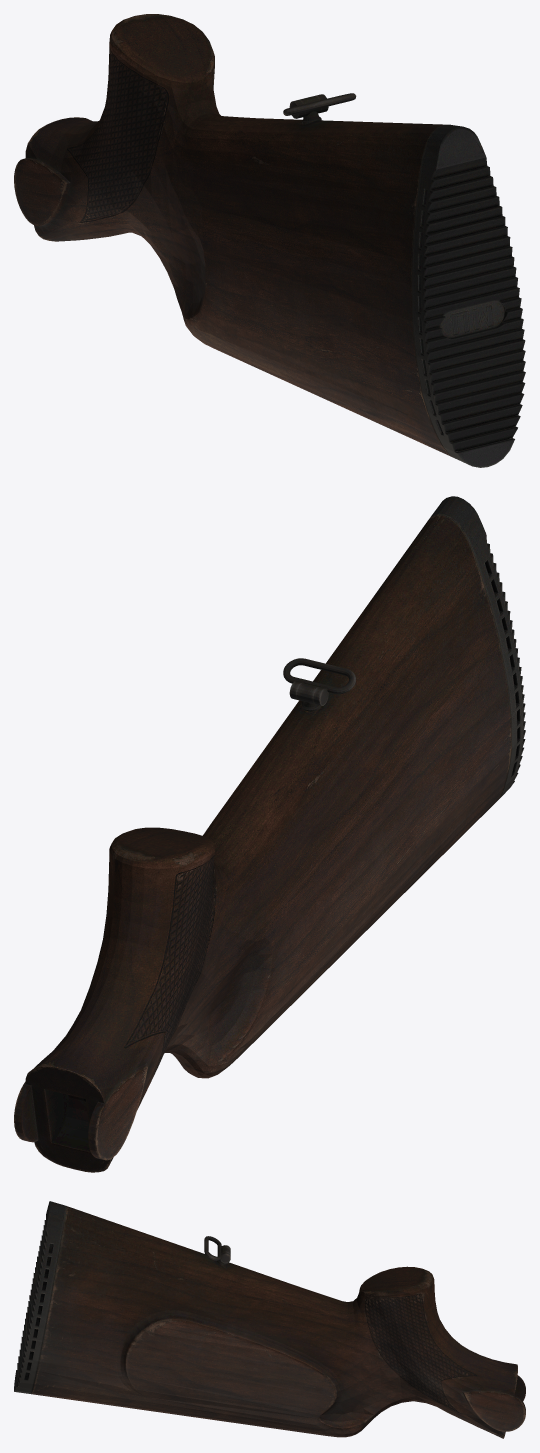
3 renders of one model, top to bottom at view 1: azimuth 30°, elevation 25°; view 2: azimuth 150°, elevation 25°; view 3: azimuth 270°, elevation 25°, orthographic. The views are drawn at different scales.
Visible parts, largest first — view 1: TW_612781056f3d944a17348d60_PZ_Import; view 2: TW_612781056f3d944a17348d60_PZ_Import; view 3: TW_612781056f3d944a17348d60_PZ_Import.
Boxes of the visible parts, x1,y1,x2,y2 form: TW_612781056f3d944a17348d60_PZ_Import: (14, 14, 525, 467); TW_612781056f3d944a17348d60_PZ_Import: (14, 496, 525, 1172); TW_612781056f3d944a17348d60_PZ_Import: (14, 1201, 525, 1438).
Size of the model in its own units: 0.0235 by 0.1755 by 0.0886.
1 material, 1 textured.
